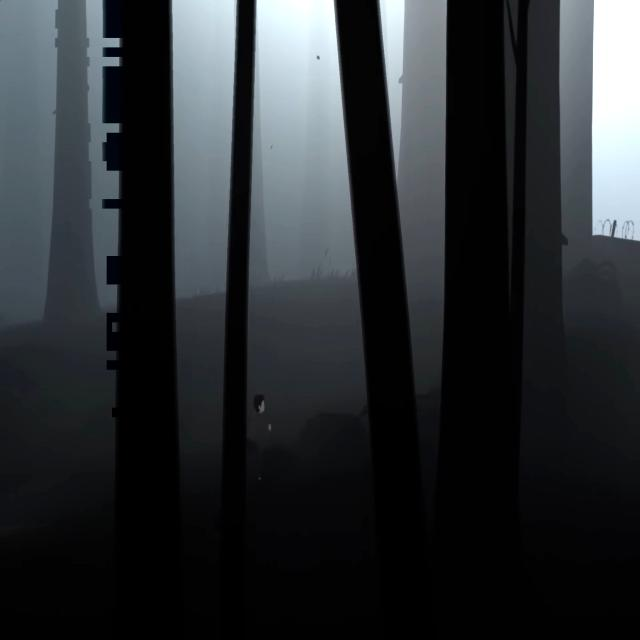boy: (245, 393, 272, 486)
